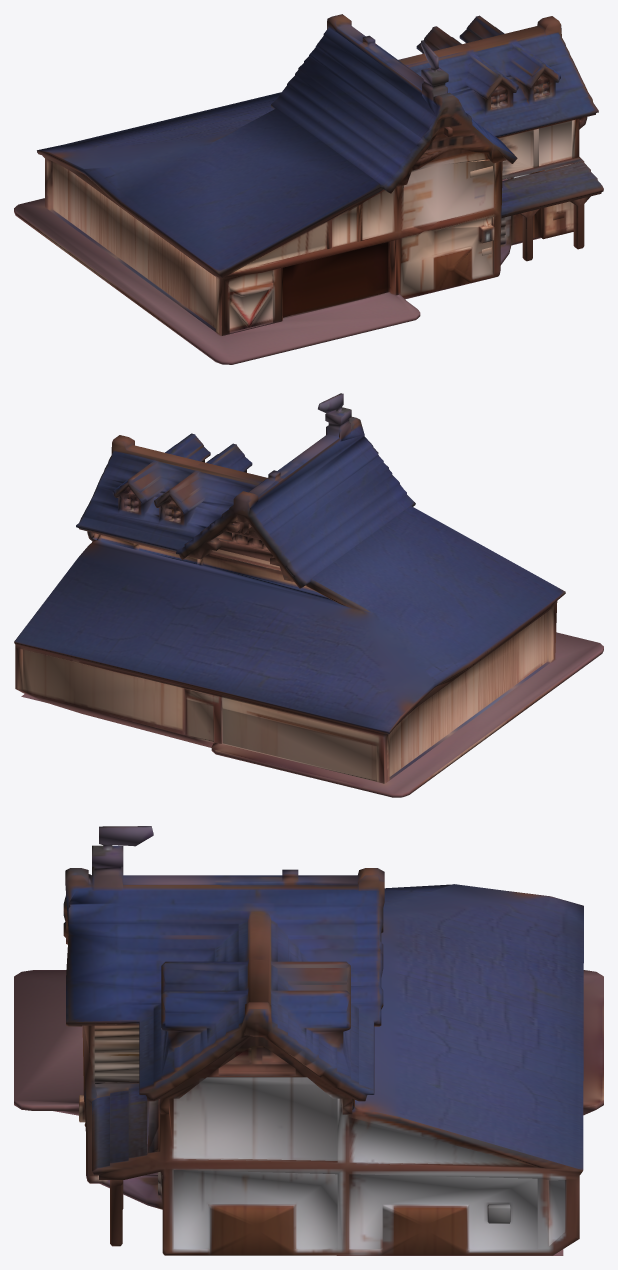
File: large_warehouse.fbx
3 renders of one model, top to bottom at view 1: azimuth 30°, elevation 25°; view 2: azimuth 150°, elevation 25°; view 3: azimuth 270°, elevation 25°, orthographic. The views are drawn at different scales.
Visible parts, largest first — view 1: texture_pbr_v128; view 2: texture_pbr_v128; view 3: texture_pbr_v128.
Part boxes in pixels (left/top/right/bottom): texture_pbr_v128: left=14, top=14, right=603, bottom=364; texture_pbr_v128: left=14, top=393, right=603, bottom=797; texture_pbr_v128: left=14, top=826, right=603, bottom=1255.
Size of the model in its own units: 190 by 100 by 167.
1 material, 1 textured.
